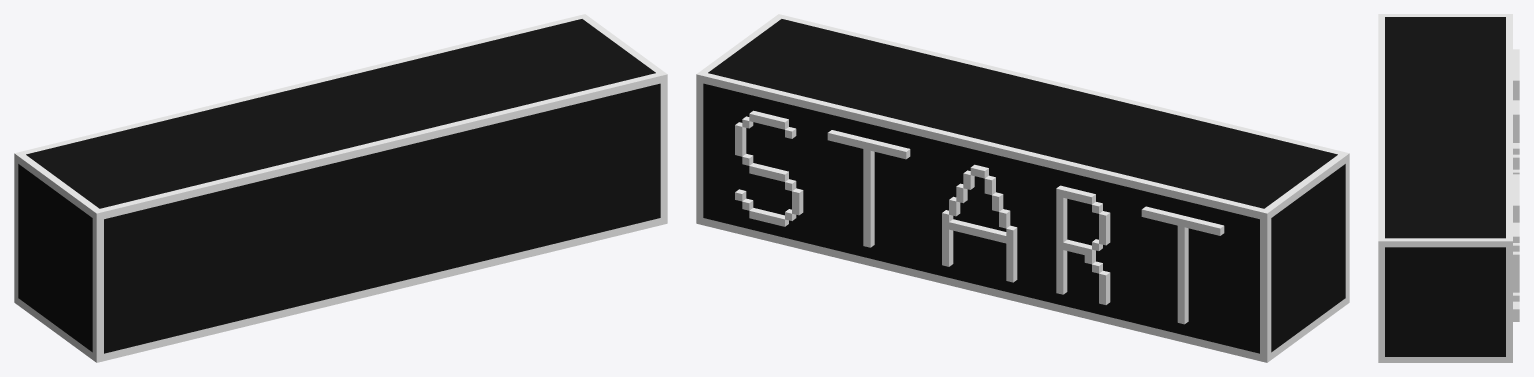
File: startButton.fbx
3 views of the same model, side by side, from view 1: azimuth 30°, elevation 25°; view 2: azimuth 150°, elevation 25°; view 3: azimuth 270°, elevation 25° (orthographic). The views are drawn at different scales.
Parts seen in each view (by area): view 1: startButton; view 2: startButton; view 3: startButton.
Boxes of the visible parts, x1,y1,x2,y2 form: startButton: [14, 14, 667, 362]; startButton: [696, 14, 1349, 362]; startButton: [1378, 14, 1519, 362].
Size of the model in its own units: 400 by 100 by 105.
